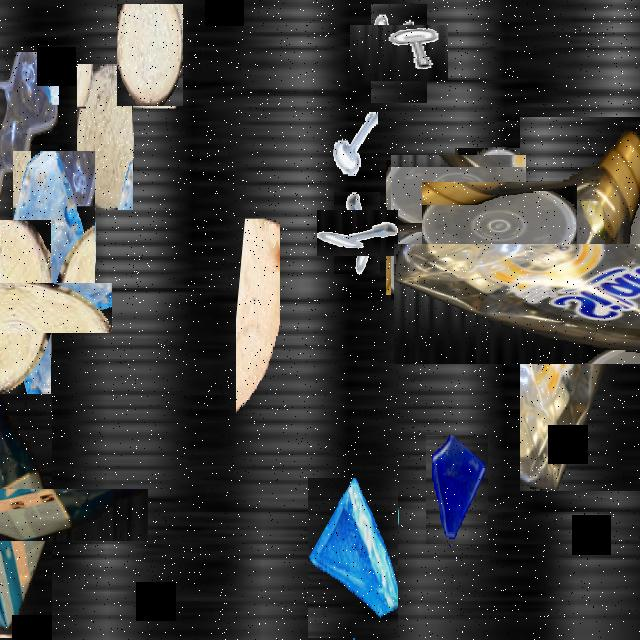glass: (308, 478, 398, 638), (13, 151, 95, 297), (426, 436, 488, 546)
metal: (360, 15, 438, 92), (325, 201, 389, 265), (333, 105, 377, 183)
plastic: (456, 180, 640, 427), (389, 157, 529, 298), (438, 165, 560, 287), (0, 441, 100, 589), (563, 233, 640, 378), (0, 52, 59, 204)
wood: (0, 251, 81, 363), (236, 219, 280, 425), (77, 64, 133, 210), (117, 4, 183, 106)
